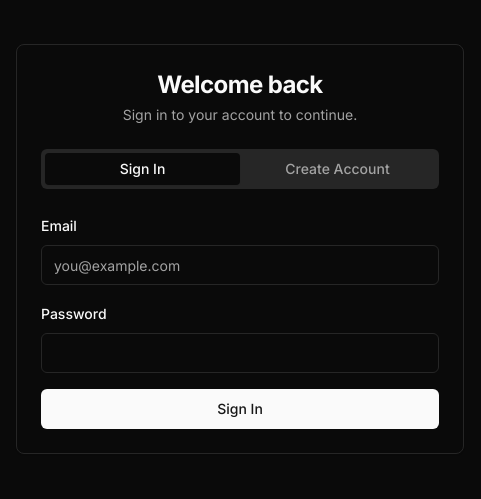
it: LoginPage form › shows translated validation errors in English
Click the button "Sign In": (240, 409) x1=41 y1=389 x2=439 y2=429
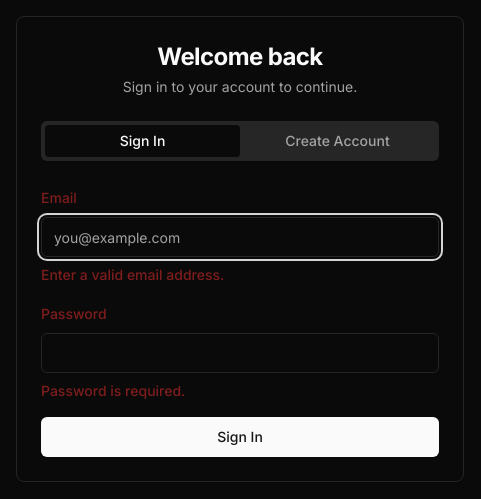
Expected: the text "Enter a valid email address." is shown, x1=41 y1=266 x2=224 y2=283
